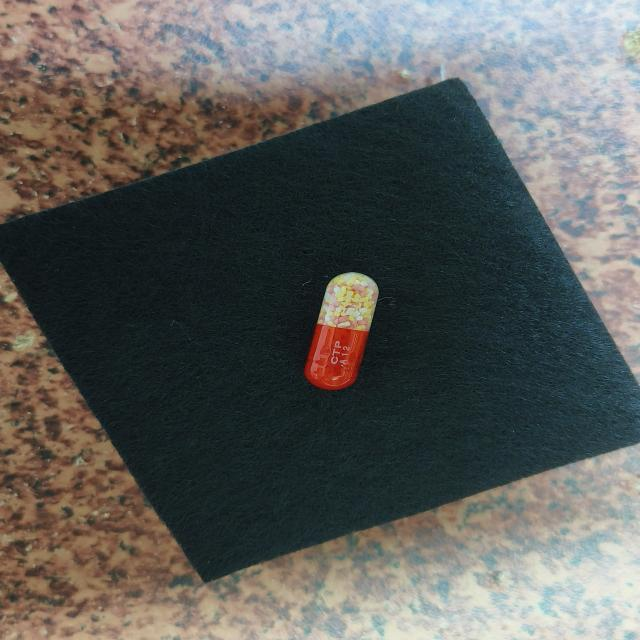Intact Capsule: (303, 272, 379, 390)
